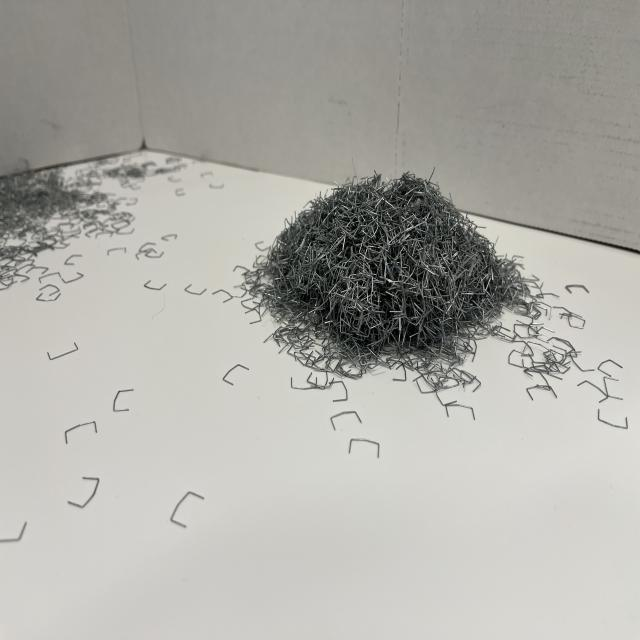staples: (236, 167, 534, 370)
